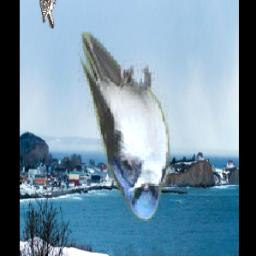Swallow: (78, 32, 170, 222)
Woodpecker: (34, 0, 57, 30)
